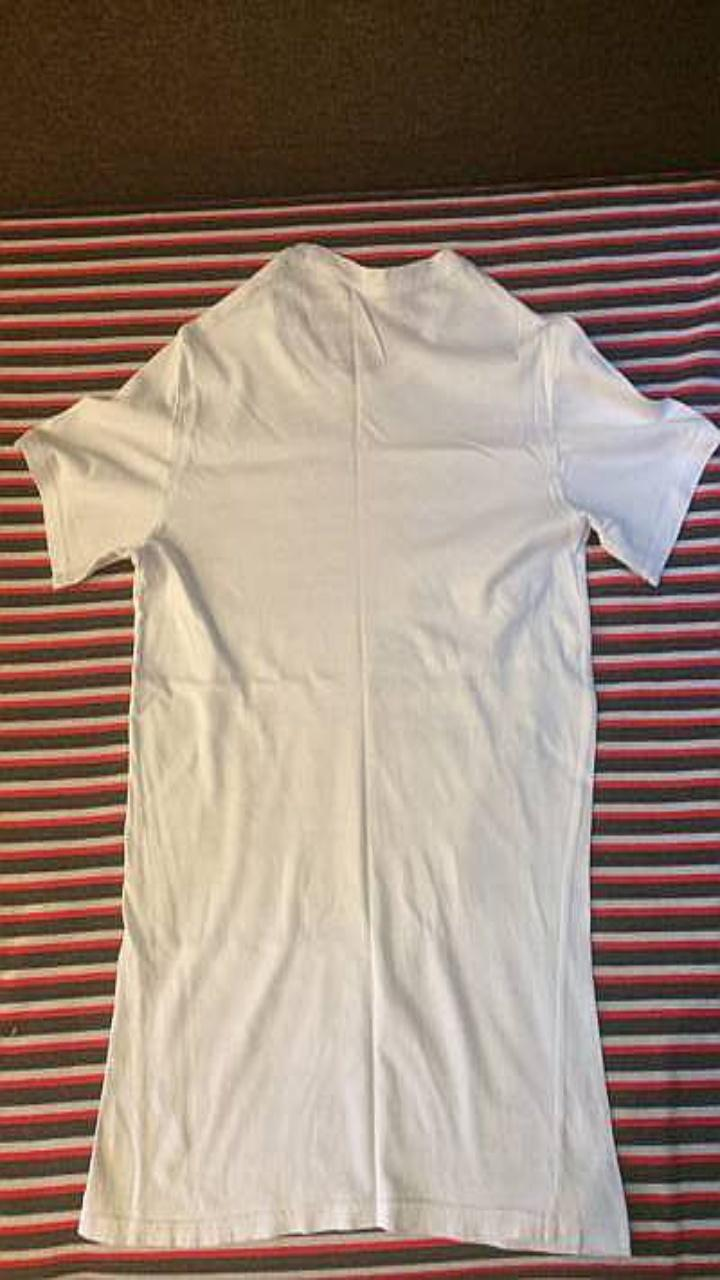T-Shirt: (18, 243, 719, 1256)
